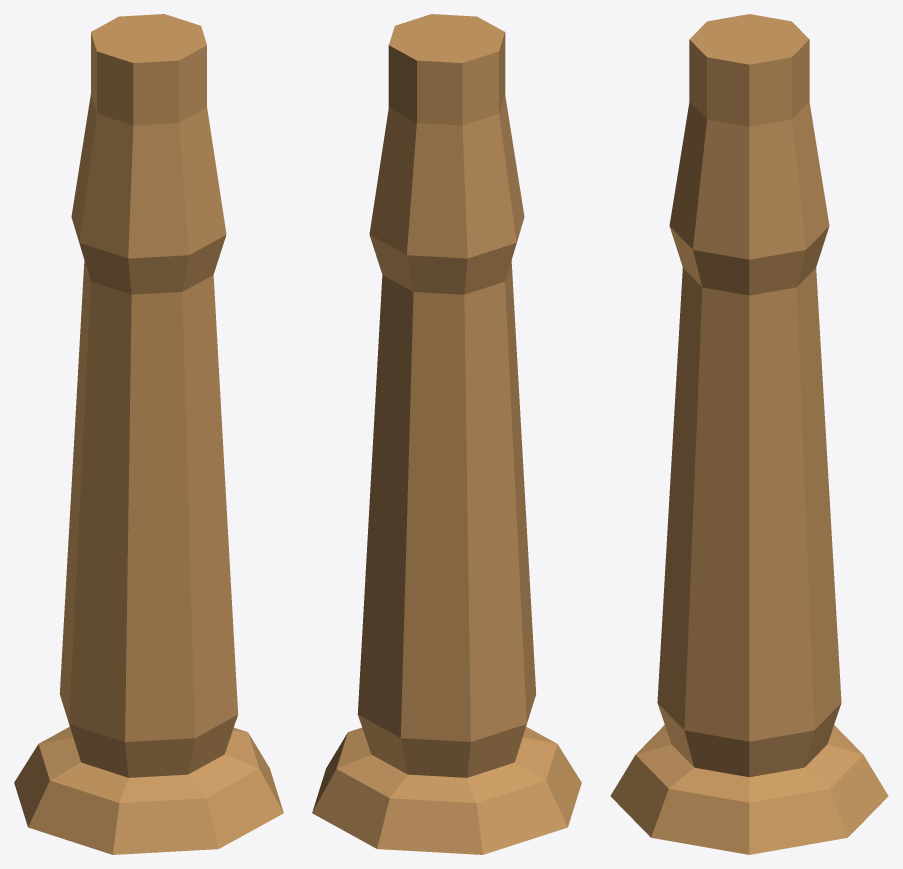
Rendered from egypt-pillar-papyrus.glb.
The picture shows the model from 3 angles, left to right: view 1: azimuth 30°, elevation 25°; view 2: azimuth 150°, elevation 25°; view 3: azimuth 270°, elevation 25°; orthographic projection.
Visible parts, largest first — view 1: egypt-pillar-papyrus; view 2: egypt-pillar-papyrus; view 3: egypt-pillar-papyrus.
Part boxes in pixels (left/top/right/bottom): egypt-pillar-papyrus: left=14, top=14, right=283, bottom=854; egypt-pillar-papyrus: left=312, top=14, right=581, bottom=854; egypt-pillar-papyrus: left=610, top=14, right=888, bottom=854.
Size of the model in its own units: 3 by 9 by 3.
Materials: 1 (1 with a texture image).
